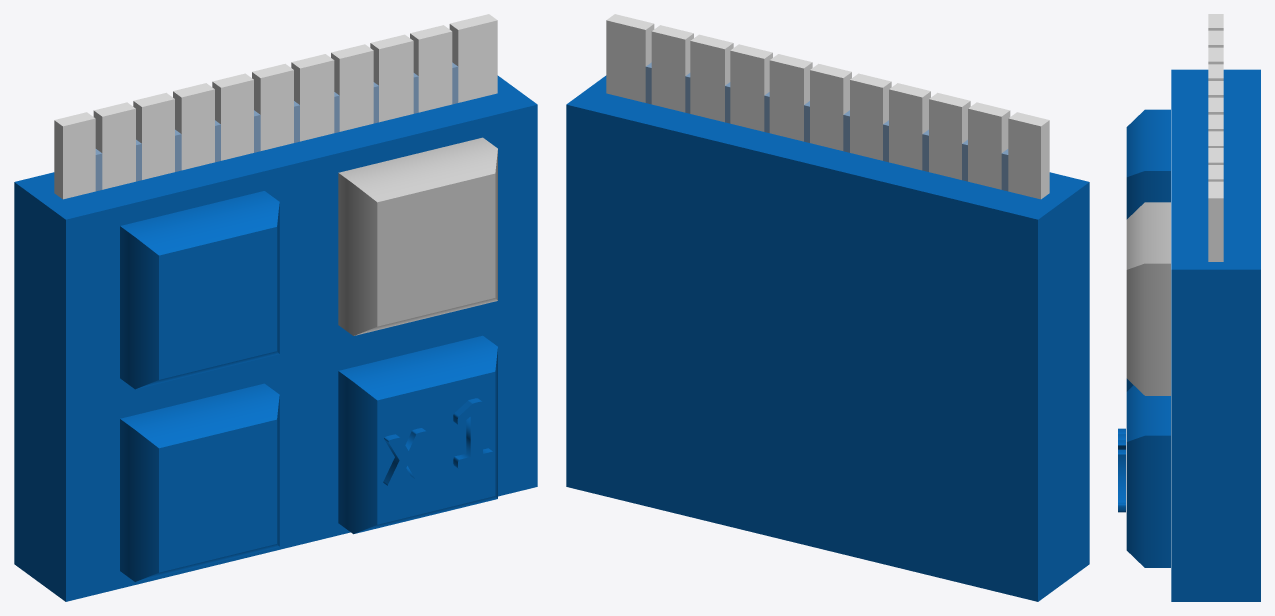
Rendered from Ram_x1_Ani.fbx.
The picture shows the model from 3 angles, left to right: view 1: azimuth 30°, elevation 25°; view 2: azimuth 150°, elevation 25°; view 3: azimuth 270°, elevation 25°; orthographic projection. The views are drawn at different scales.
Visible parts, largest first — view 1: RAMx1; view 2: RAMx1; view 3: RAMx1.
Part boxes in pixels (x1=…): RAMx1: x1=14, y1=14, x2=537, y2=601; RAMx1: x1=566, y1=14, x2=1089, y2=601; RAMx1: x1=1118, y1=14, x2=1260, y2=601.
Bounding box in the file's own units: 77.84 × 258 × 238.
